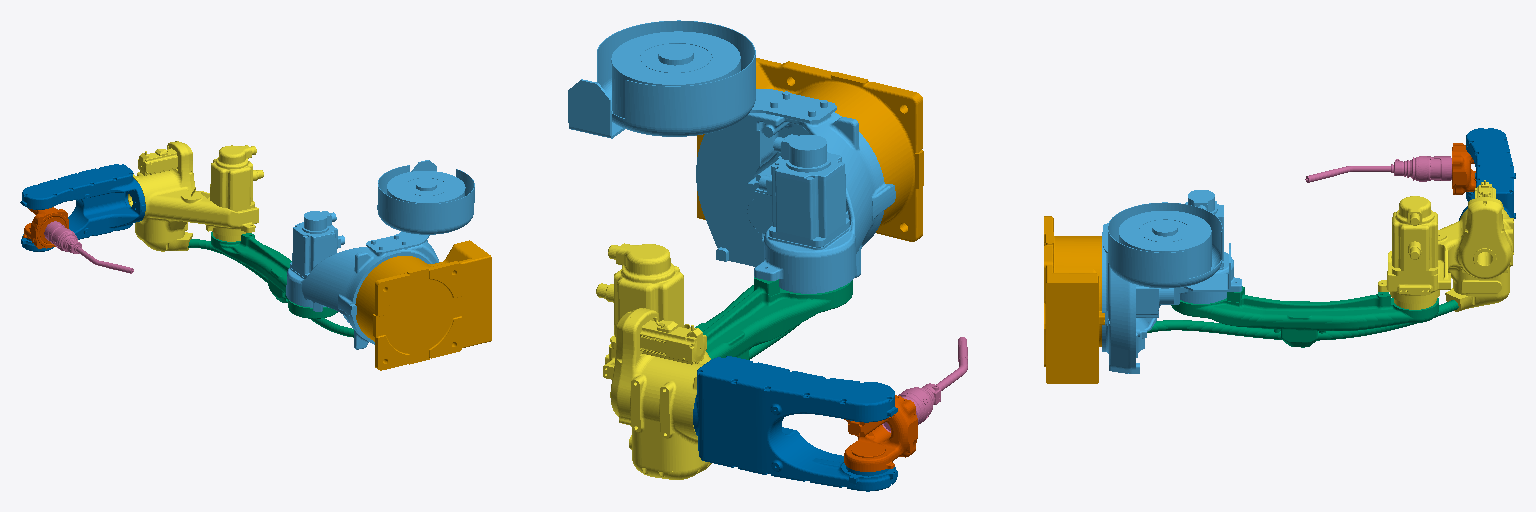
robot.urdf — MR10W:
<?xml version='1.0' encoding='utf-8'?>
<robot name="MR10W">
    <link name="base-v2">
        <inertial>
            <origin xyz="0.0023659893751310015 0.4932219447271794 0.017343412067112082" rpy="0.0 0.0 0.0" />
            <mass value="521.4873222218245" />
            <inertia ixx="119.18174701366398" iyy="35.73986652588964" izz="141.89726421012716" ixy="42.755706222784866" iyz="2.8013361467732123" ixz="-3.6339910718520914" />
        </inertial>
        <visual name="base-v2_visual">
            <origin xyz="0.0 0.0 0.0" rpy="0.0 0.0 0.0" />
            <geometry>
                <mesh filename="meshes/base-v2.stl" scale="0.001 0.001 0.001" />
            </geometry>
        </visual>
        <collision name="base-v2_collision">
            <origin xyz="0.0 0.0 0.0" rpy="0.0 0.0 0.0" />
            <geometry>
                <mesh filename="meshes/base-v2.stl" scale="0.001 0.001 0.001" />
            </geometry>
        </collision>
    </link>
    <link name="link0-v1">
        <inertial>
            <origin xyz="0.022592065065432276 0.3544642195000236 0.07089610839600581" rpy="0.0 -0.0 0.0" />
            <mass value="521.4873222218245" />
            <inertia ixx="141.8972642101266" iyy="35.73986652588856" izz="119.18174701366456" ixy="2.801336146766502" iyz="-42.755706222784355" ixz="3.6339910718470554" />
        </inertial>
        <visual name="link0-v1_visual">
            <origin xyz="0.0052486529982758694 -0.13875772522715205 0.07326209777113676" rpy="7.989442440958813e-14 1.5707963267948926 0" />
            <geometry>
                <mesh filename="meshes/link0-v1.stl" scale="0.001 0.001 0.001" />
            </geometry>
        </visual>
        <collision name="link0-v1_collision">
            <origin xyz="0.0052486529982758694 -0.13875772522715205 0.07326209777113676" rpy="7.989442440958813e-14 1.5707963267948926 0" />
            <geometry>
                <mesh filename="meshes/link0-v1.stl" scale="0.001 0.001 0.001" />
            </geometry>
        </collision>
    </link>
    <link name="link1-v1">
        <inertial>
            <origin xyz="-0.11580419139818826 0.08586131160398969 -0.07959568324960876" rpy="0.0 -0.0 1.3137173103045162e-46" />
            <mass value="521.4873222218245" />
            <inertia ixx="141.75928893704386" iyy="119.18174701366381" izz="35.87784179897201" ixy="4.415418056334619" iyz="-42.68208510730404" ixz="4.740837791623493" />
        </inertial>
        <visual name="link1-v1_visual">
            <origin xyz="-0.10748509132627997 0.08349532222885808 0.41386097470180916" rpy="-1.5890881197843378 -1.6588712556346708e-15 1.5707963267949343" />
            <geometry>
                <mesh filename="meshes/link1-v1.stl" scale="0.001 0.001 0.001" />
            </geometry>
        </visual>
        <collision name="link1-v1_collision">
            <origin xyz="-0.10748509132627997 0.08349532222885808 0.41386097470180916" rpy="-1.5890881197843378 -1.6588712556346708e-15 1.5707963267949343" />
            <geometry>
                <mesh filename="meshes/link1-v1.stl" scale="0.001 0.001 0.001" />
            </geometry>
        </collision>
    </link>
    <link name="link2-v1">
        <inertial>
            <origin xyz="-0.13371893446859712 -0.05842148160400012 -0.5335712690624922" rpy="1.4012984643248174e-45 -0.0 0.0" />
            <mass value="521.4873222218245" />
            <inertia ixx="141.75928893704423" iyy="119.18174701366452" izz="35.87784179897188" ixy="-4.415418056332902" iyz="-42.68208510730444" ixz="-4.740837791620002" />
        </inertial>
        <visual name="link2-v1_visual">
            <origin xyz="-0.12539983439668886 -0.05605549222886708 -1.02702792701391" rpy="1.5525045338054557 3.1503449953230675e-15 -1.5707963267948528" />
            <geometry>
                <mesh filename="meshes/link2-v1.stl" scale="0.001 0.001 0.001" />
            </geometry>
        </visual>
        <collision name="link2-v1_collision">
            <origin xyz="-0.12539983439668886 -0.05605549222886708 -1.02702792701391" rpy="1.5525045338054557 3.1503449953230675e-15 -1.5707963267948528" />
            <geometry>
                <mesh filename="meshes/link2-v1.stl" scale="0.001 0.001 0.001" />
            </geometry>
        </collision>
    </link>
    <link name="link3-v1">
        <inertial>
            <origin xyz="0.584233975700148 0.5580692162850277 0.025293615129675633" rpy="1.734723475976807e-18 -0.0 5.551115123125784e-17" />
            <mass value="521.4873222218245" />
            <inertia ixx="72.1488973486923" iyy="82.85426139714095" izz="141.81571900384571" ixy="-59.3986404908771" iyz="-5.516119485292839" ixz="-2.7772055318393107" />
        </inertial>
        <visual name="link3-v1_visual">
            <origin xyz="1.0500363293665422 0.7209602749382482 0.016990065407217755" rpy="-0.01829179298944074 0.006498258861735984 1.9121079513945258" />
            <geometry>
                <mesh filename="meshes/link3-v1.stl" scale="0.001 0.001 0.001" />
            </geometry>
        </visual>
        <collision name="link3-v1_collision">
            <origin xyz="1.0500363293665422 0.7209602749382482 0.016990065407217755" rpy="-0.01829179298944074 0.006498258861735984 1.9121079513945258" />
            <geometry>
                <mesh filename="meshes/link3-v1.stl" scale="0.001 0.001 0.001" />
            </geometry>
        </collision>
    </link>
    <link name="link4-v1">
        <inertial>
            <origin xyz="0.04945627291743129 -0.6867732673615199 -0.753336321646631" rpy="0.0 -0.0 -2.710505431213761e-20" />
            <mass value="521.4873222218245" />
            <inertia ixx="141.75754262609013" iyy="120.21329909862465" izz="34.84803602496374" ixy="-4.361172737780148" iyz="-41.65150368061545" ixz="-4.801514933755753" />
        </inertial>
        <visual name="link4-v1_visual">
            <origin xyz="0.057787054003556215 -0.6783852922376462 -1.2467271591863331" rpy="1.5525244322620917 0.012208088596854507 -1.5710182855788881" />
            <geometry>
                <mesh filename="meshes/link4-v1.stl" scale="0.001 0.001 0.001" />
            </geometry>
        </visual>
        <collision name="link4-v1_collision">
            <origin xyz="0.057787054003556215 -0.6783852922376462 -1.2467271591863331" rpy="1.5525244322620917 0.012208088596854507 -1.5710182855788881" />
            <geometry>
                <mesh filename="meshes/link4-v1.stl" scale="0.001 0.001 0.001" />
            </geometry>
        </collision>
    </link>
    <link name="tool-v1">
        <inertial>
            <origin xyz="-0.0004370642120162671 0.6524542924773619 -0.6879482540106414" rpy="0.0 -1.4674845811180753e-19 0.0" />
            <mass value="521.4873222218245" />
            <inertia ixx="141.9443731293359" iyy="34.71389984090213" izz="120.16060477944045" ixy="2.5710660002649917" iyz="41.74762132326163" ixz="-3.456057828443612" />
        </inertial>
        <visual name="tool-v1_visual">
            <origin xyz="0.01682047030435653 1.1456121400883768 -0.6794751524297719" rpy="-2.0762746505663783 1.5569136439028999 1.06541826491411" />
            <geometry>
                <mesh filename="meshes/tool-v1.stl" scale="0.001 0.001 0.001" />
            </geometry>
        </visual>
        <collision name="tool-v1_collision">
            <origin xyz="0.01682047030435653 1.1456121400883768 -0.6794751524297719" rpy="-2.0762746505663783 1.5569136439028999 1.06541826491411" />
            <geometry>
                <mesh filename="meshes/tool-v1.stl" scale="0.001 0.001 0.001" />
            </geometry>
        </collision>
    </link>
    <joint name="base-v2_Revolute-1" type="continuous">
        <origin xyz="0.07326209777113689 0.138757725227152 -0.005248652998288535" rpy="-2.2204460492502076e-16 -1.5707963267948926 0" />
        <parent link="base-v2" />
        <child link="link0-v1" />
        <axis xyz="-1.0014835710812908e-31 -1.0 3.944304526105059e-31" />
    </joint>
    <joint name="link0-v1_Revolute-2" type="continuous">
        <origin xyz="-0.09464862 0.277 0.15675742" rpy="-1.5707963267948966 6.324409176307411e-31 3.1233008606002723" />
        <parent link="link0-v1" />
        <child link="link1-v1" />
        <axis xyz="0.9996657377566167 -0.018291 0.018287718406607024" />
    </joint>
    <joint name="link1-v1_Revolute-3" type="continuous">
        <origin xyz="0.004721311976181015 0.027439830000000002 -0.6134083107417783" rpy="3.141592653589793 -2.0122792321330965e-16 -6.2522647977128455e-31" />
        <parent link="link1-v1" />
        <child link="link2-v1" />
        <axis xyz="-0.9996657377566167 -0.018291 0.018287718406606823" />
    </joint>
    <joint name="link2-v1_Revolute-4" type="continuous">
        <origin xyz="-0.10627935680032455 0.27172823 0.20376080876872238" rpy="-1.5707963267948957 1.229484702195266 1.564298067933112" />
        <parent link="link2-v1" />
        <child link="link3-v1" />
        <axis xyz="-0.3281764449935533 0.944294793608043 -0.024664694689717513" />
    </joint>
    <joint name="link3-v1_Revolute-5" type="continuous">
        <origin xyz="0.1164018674246465 -0.34706192742358327 0.07943316621726383" rpy="1.5707963267944216 1.5640752253550712 -1.217276358221749" />
        <parent link="link3-v1" />
        <child link="link4-v1" />
        <axis xyz="-0.9998205633932552 -0.018059585250805144 0.005778352755142924" />
    </joint>
    <joint name="link4-v1_Revolute-6" type="continuous">
        <origin xyz="0.06640557573479983 0.00022633571962373368 -0.10100143348909399" rpy="-1.5708557709210158 0.01821111116757095 -0.0067221839235806205" />
        <parent link="link4-v1" />
        <child link="tool-v1" />
        <axis xyz="0.011959927035956391 0.9997485925080333 0.018946993151996643" />
    </joint>
</robot>

--- Render facts (derived) ---
3 views of the same robot in one strip: view 1: azimuth 30°, elevation 25°; view 2: azimuth 150°, elevation 25°; view 3: azimuth 270°, elevation 25° (orthographic).
Model MR10W with 7 links and 6 joints (6 continuous), rooted at base-v2, posed all joints at 0.
Visible links, largest first — view 1: link0-v1, base-v2, link2-v1, link3-v1, link1-v1, tool-v1, link4-v1; view 2: link0-v1, link2-v1, link3-v1, base-v2, link1-v1, link4-v1, tool-v1; view 3: link0-v1, link2-v1, link1-v1, base-v2, link3-v1, tool-v1, link4-v1.
Boxes of the visible links, left/top/right/bottom form: link0-v1: left=286, top=160, right=474, bottom=349; base-v2: left=355, top=240, right=491, bottom=370; link2-v1: left=128, top=141, right=263, bottom=251; link3-v1: left=20, top=164, right=145, bottom=251; link1-v1: left=188, top=232, right=353, bottom=337; tool-v1: left=44, top=221, right=133, bottom=273; link4-v1: left=23, top=207, right=68, bottom=248; link0-v1: left=568, top=20, right=895, bottom=293; link2-v1: left=596, top=243, right=711, bottom=479; link3-v1: left=693, top=356, right=897, bottom=491; base-v2: left=697, top=58, right=923, bottom=241; link1-v1: left=695, top=277, right=852, bottom=359; link4-v1: left=844, top=395, right=917, bottom=471; tool-v1: left=882, top=337, right=967, bottom=432; link0-v1: left=1102, top=190, right=1241, bottom=373; link2-v1: left=1378, top=180, right=1513, bottom=311; link1-v1: left=1147, top=286, right=1458, bottom=347; base-v2: left=1044, top=216, right=1104, bottom=383; link3-v1: left=1459, top=128, right=1515, bottom=220; tool-v1: left=1305, top=156, right=1451, bottom=182; link4-v1: left=1452, top=143, right=1475, bottom=194.
Size in the robot's own frame: 1.22 by 1.35 by 0.5168 metres.
Meshes: 7 distinct files referenced, 7 mesh visuals loaded (7 binary STL).